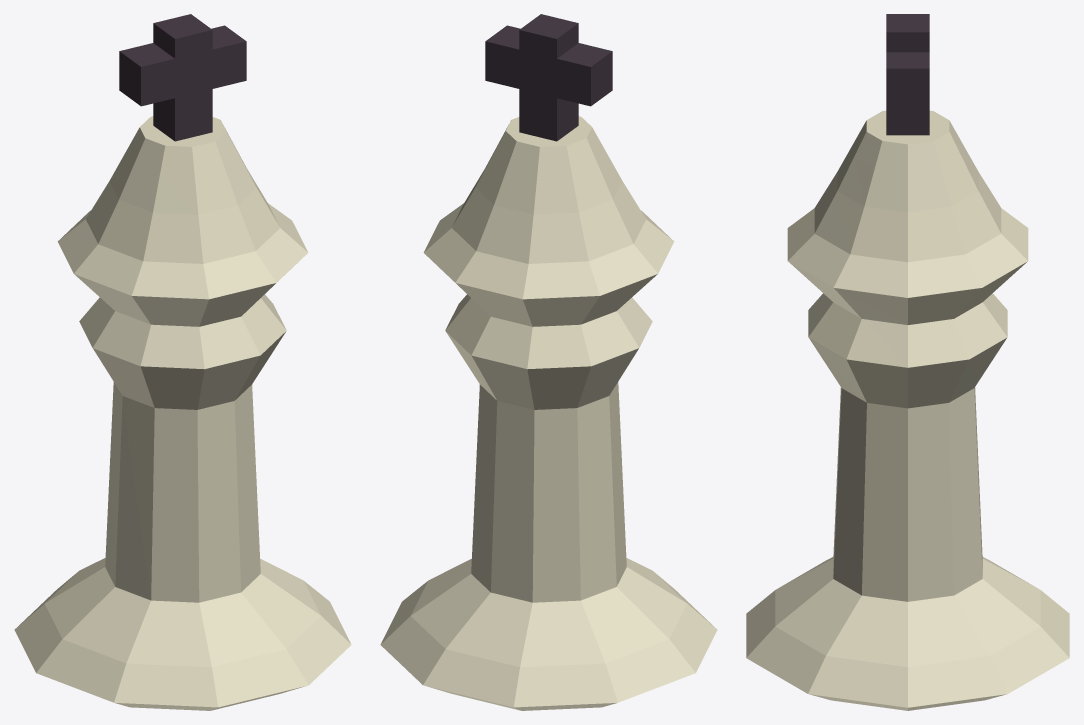
Rendered from king.obj.
3 views of the same model, side by side, from view 1: azimuth 30°, elevation 25°; view 2: azimuth 150°, elevation 25°; view 3: azimuth 270°, elevation 25° (orthographic).
Size of the model in its own units: 0.78 by 1.6 by 0.7418.
